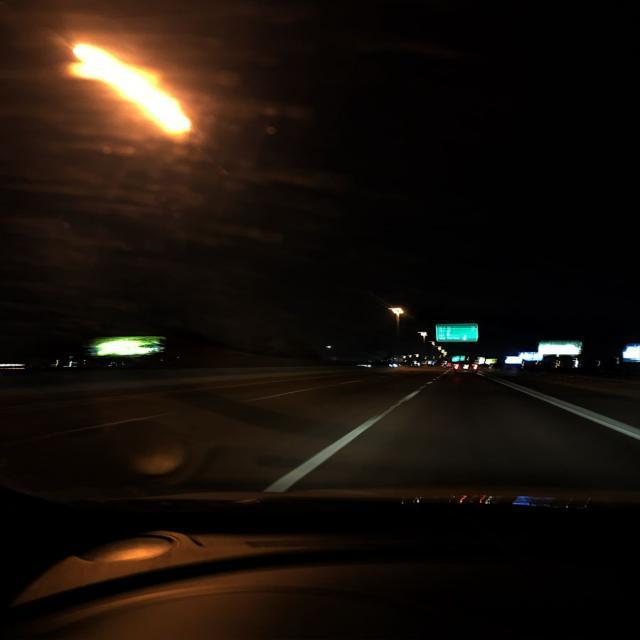on: (28, 13, 274, 178)
